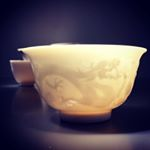cups: (13, 41, 150, 126)
